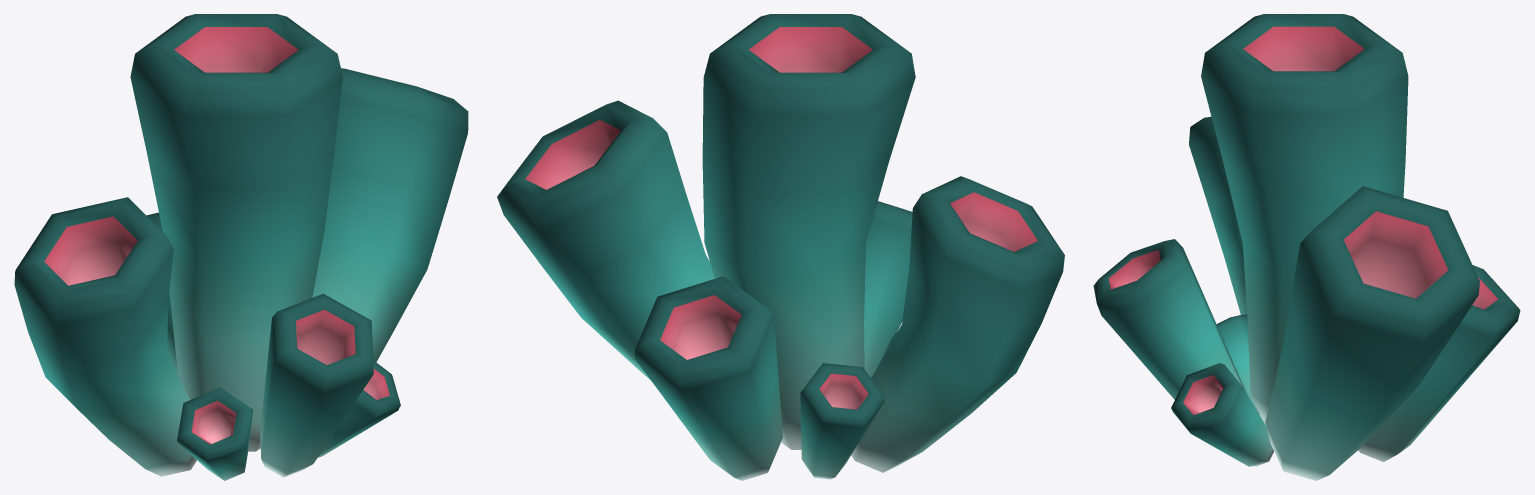
The model's file is wp_noPot_17.fbx.
3 views of the same model, side by side, from view 1: azimuth 30°, elevation 25°; view 2: azimuth 150°, elevation 25°; view 3: azimuth 270°, elevation 25° (orthographic). The views are drawn at different scales.
Visible parts, largest first — view 1: w_pl17.003; view 2: w_pl17.003; view 3: w_pl17.003.
Boxes of the visible parts, x1,y1,x2,y2 form: w_pl17.003: (14,14,468,480); w_pl17.003: (497,14,1064,480); w_pl17.003: (1093,14,1520,480).
Size of the model in its own units: 151 by 126 by 121.
